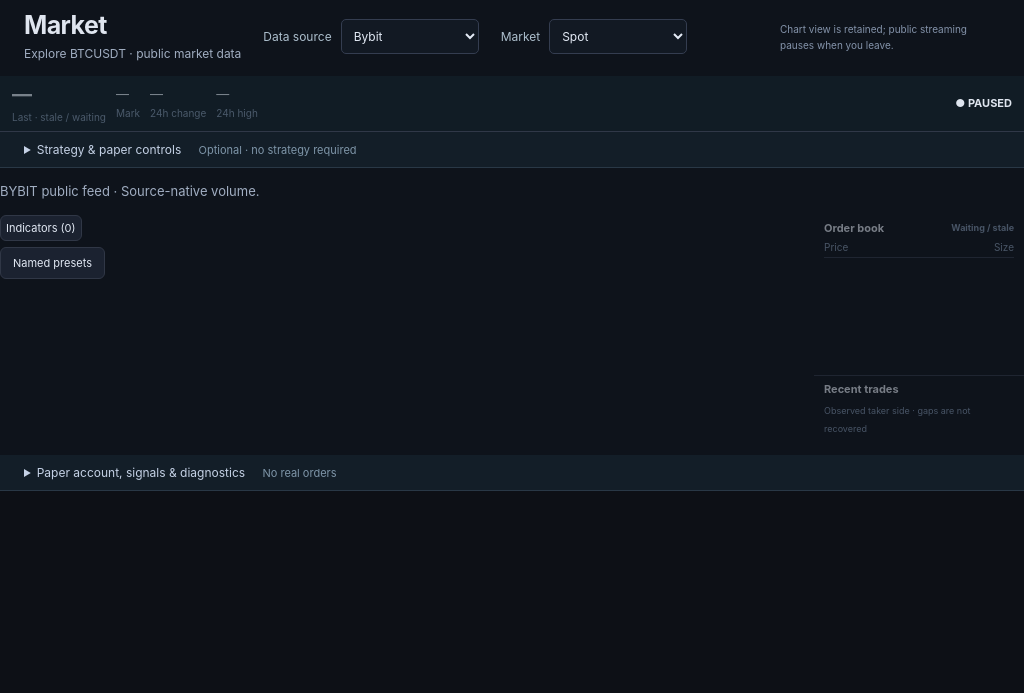
it: uses authoritative reload to reconcile a late Apply without leaking its result to another source
This screenshot has width=1024, height=693.
Click the button "Named presets": (52, 263) [0,247,105,279]
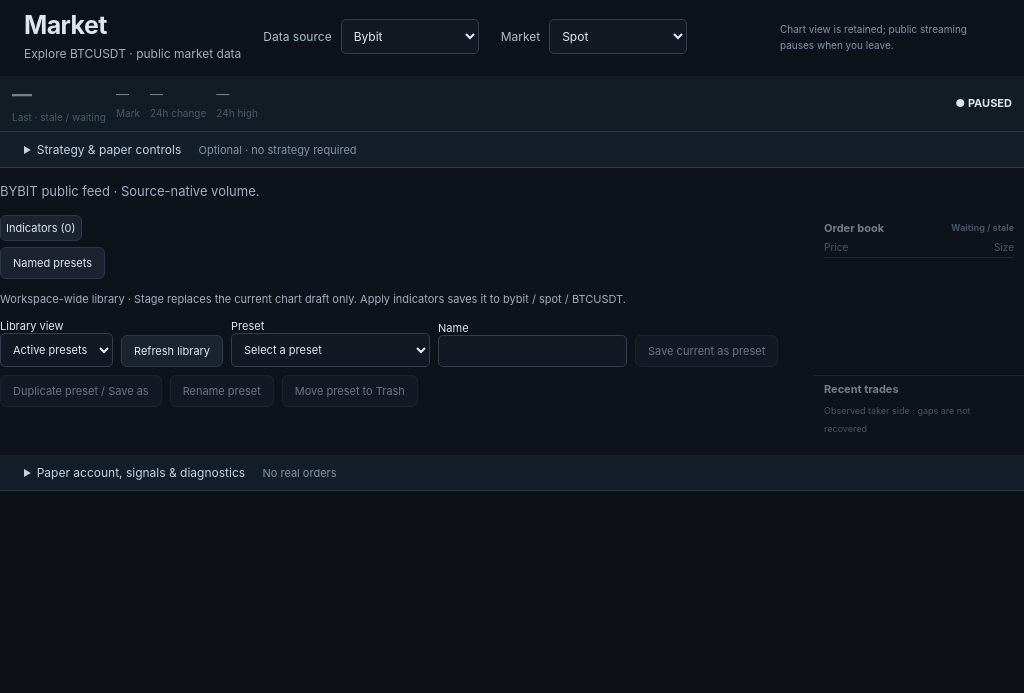
Expected: the dropdown named "Named indicator preset" is enabled
Select "Retained research · 1 instances" in the dropdown named "Named indicator preset": (331, 350) [231,333,430,367]
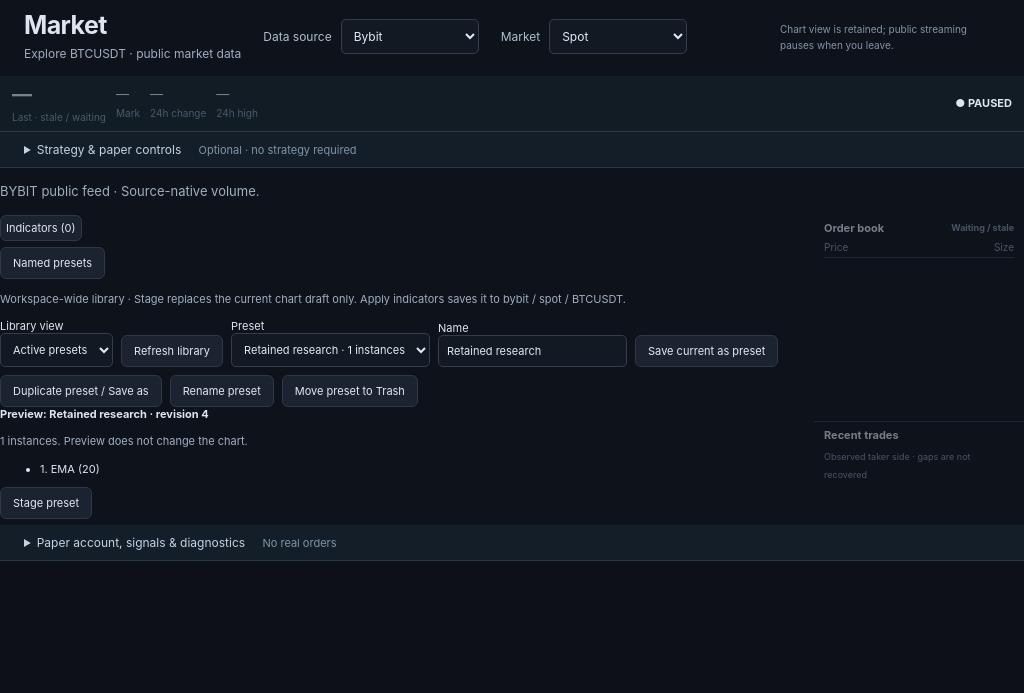
Expected: the element named "Preset preview" is shown, [0,407,248,518]
Click the button "Stage preset": (46, 502) [0,486,92,518]
(page scrolled)
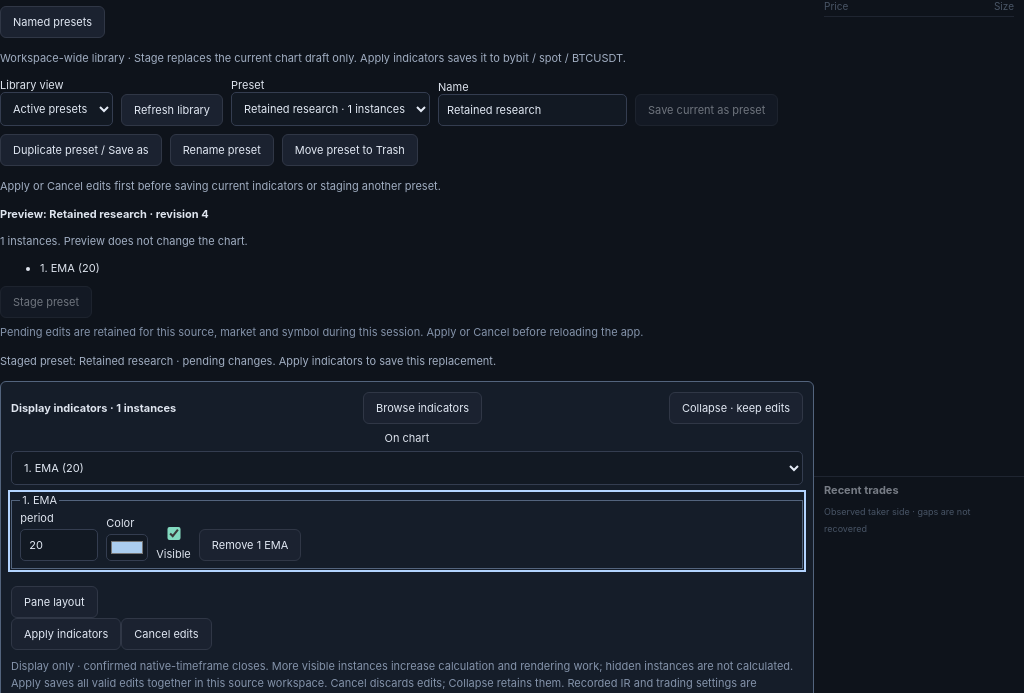
Click the button "Apply indicators": (66, 634) [11,618,121,650]
(page scrolled)
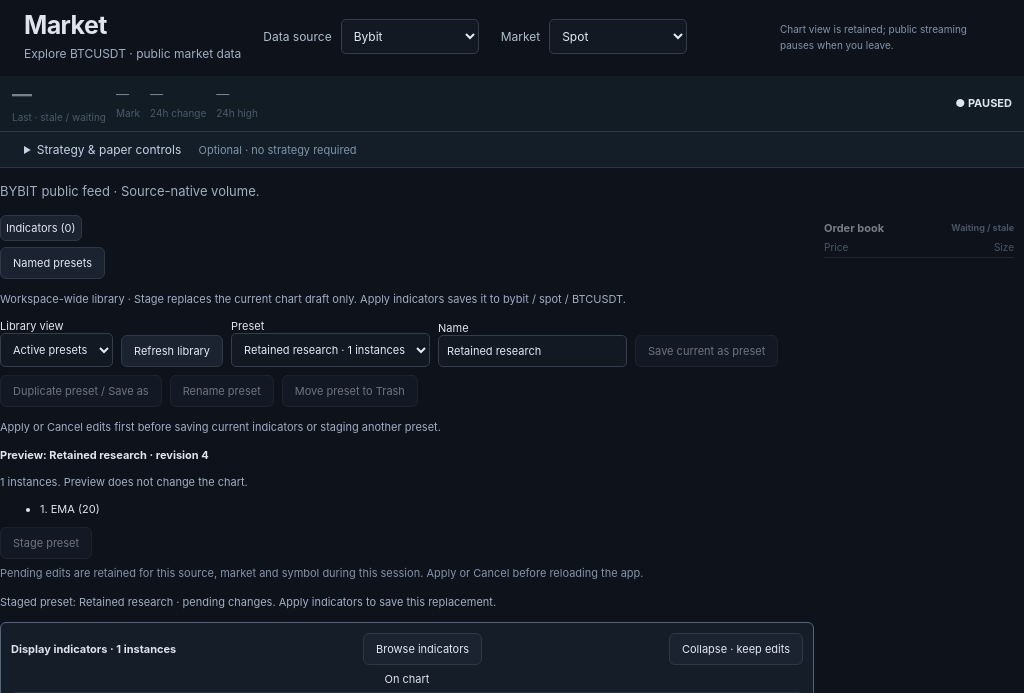
Select "OKX" in the dropdown named "Market data source": (410, 37) [341,19,479,54]
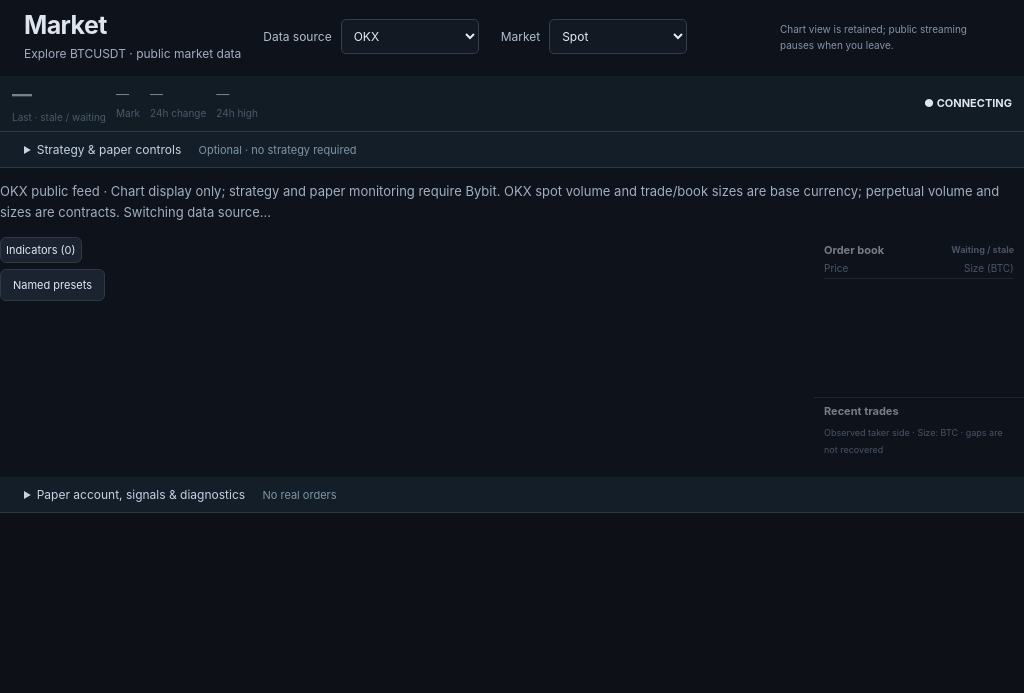
Expected: the button "Indicators (0)" is shown, [0,237,82,263]
Select "Bybit" in the dropdown named "Market data source": (410, 37) [341,19,479,54]
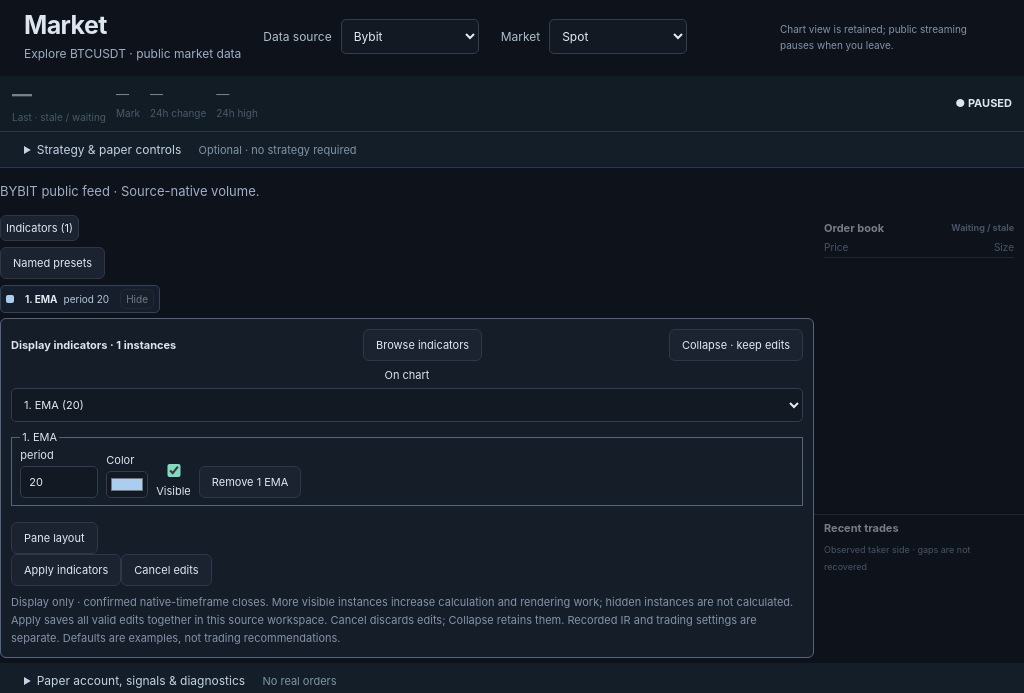
Expected: the text "Staged preset:" is not shown
Expected: the button "Indicators (1)" is shown, [0,215,79,241]
